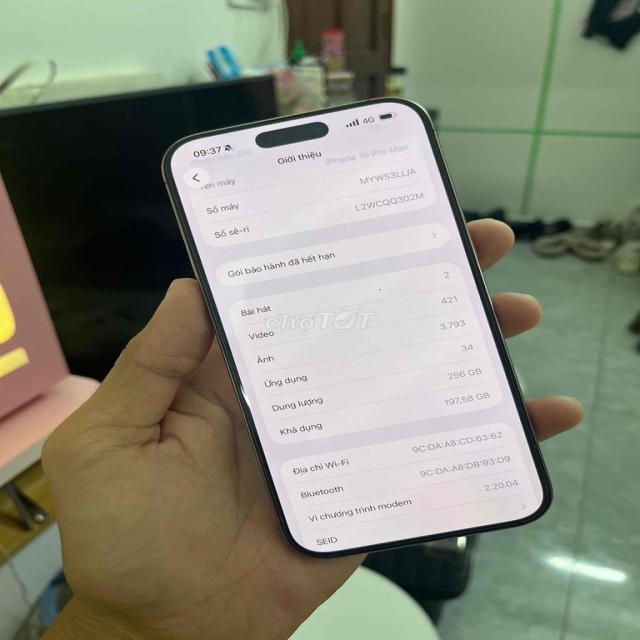gen_16: (156, 86, 560, 556)
